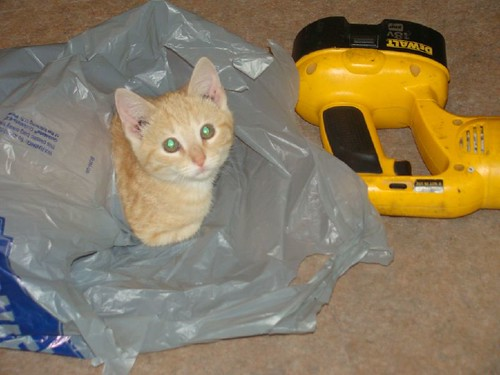plastic bag: (1, 1, 394, 375)
